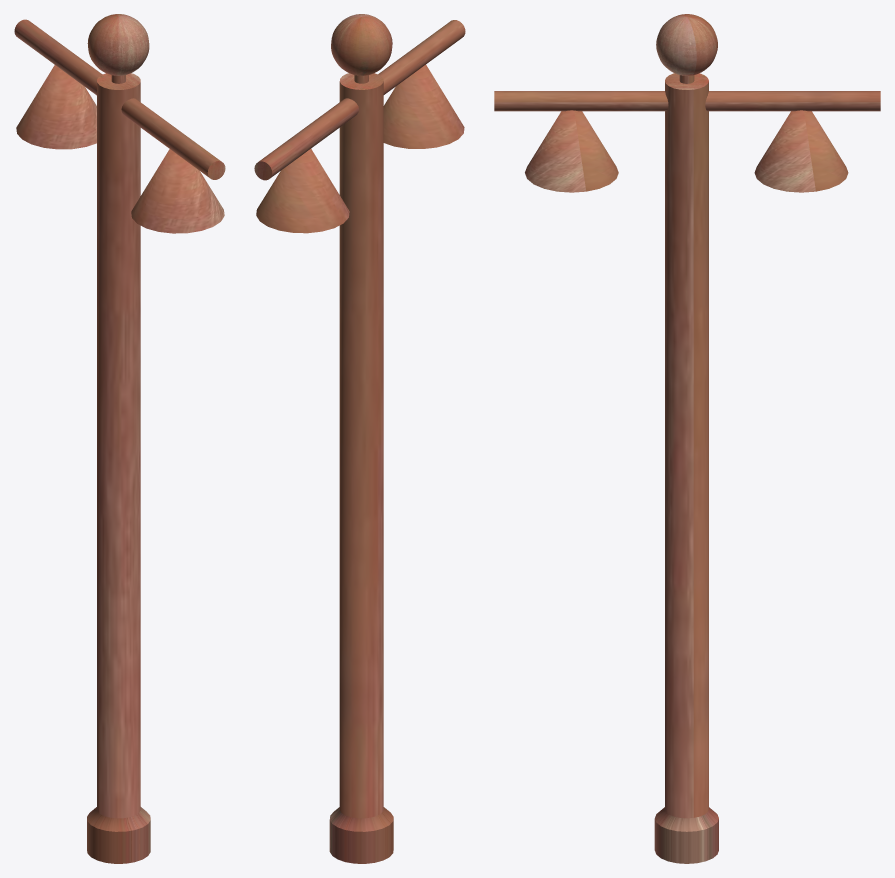
The model's file is candeeiro.fbx.
The picture shows the model from 3 angles, left to right: view 1: azimuth 30°, elevation 25°; view 2: azimuth 150°, elevation 25°; view 3: azimuth 270°, elevation 25°; orthographic projection.
Parts seen in each view (by area): view 1: pCylinder10, pCone1, pCone2, pCylinder12, pSphere1; view 2: pCylinder10, pCone2, pCone1, pCylinder12, pSphere1; view 3: pCylinder10, pCylinder12, pCone1, pCone2, pSphere1.
Boxes of the visible parts, x1,y1,x2,y2 form: pCylinder10: (87, 73, 150, 863); pCone1: (131, 149, 224, 233); pCone2: (16, 65, 96, 149); pCylinder12: (14, 19, 225, 179); pSphere1: (87, 14, 149, 75); pCylinder10: (329, 73, 393, 863); pCone2: (256, 149, 349, 233); pCone1: (383, 64, 464, 148); pCylinder12: (254, 20, 465, 180); pSphere1: (331, 14, 392, 75); pCylinder10: (654, 73, 718, 863); pCylinder12: (494, 91, 880, 111); pCone1: (525, 110, 618, 192); pCone2: (754, 110, 848, 192); pSphere1: (656, 14, 717, 75).
Bounding box in the file's own units: 0.8449 × 8.27 × 3.47.
